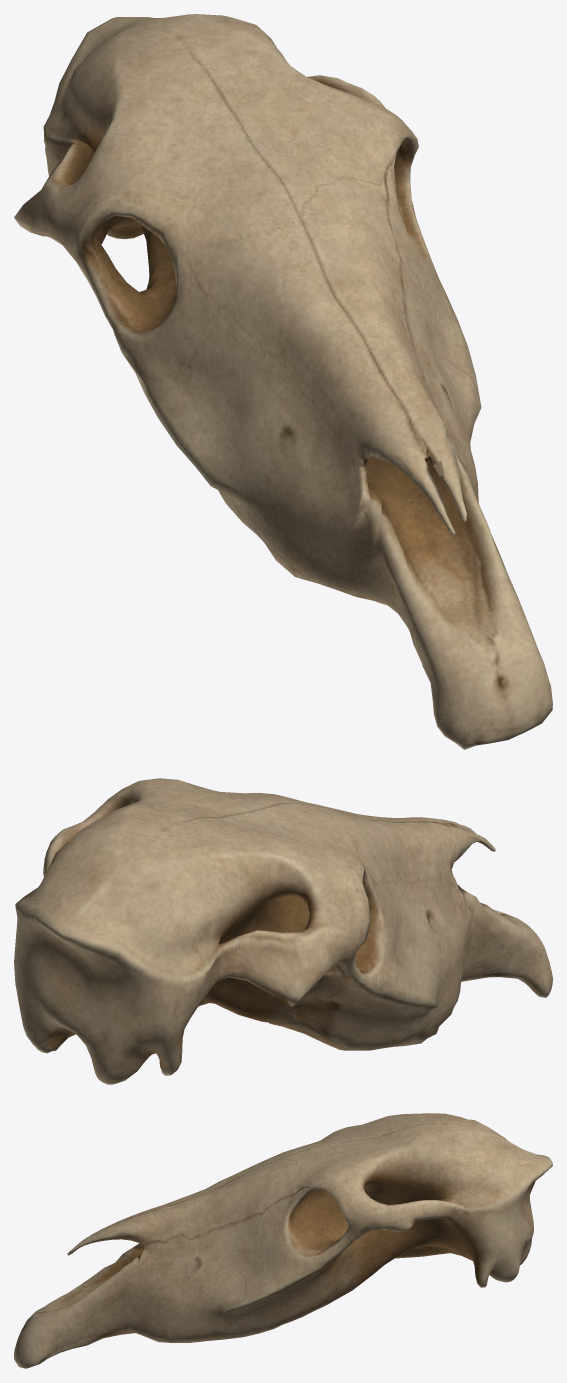
Rendered from Cranium.glb.
The picture shows the model from 3 angles, top to bottom: view 1: azimuth 30°, elevation 25°; view 2: azimuth 150°, elevation 25°; view 3: azimuth 270°, elevation 25°; orthographic projection. The views are drawn at different scales.
Visible parts, largest first — view 1: Cranium; view 2: Cranium; view 3: Cranium.
Boxes of the visible parts, x1,y1,x2,y2 form: Cranium: [14, 14, 552, 749]; Cranium: [14, 778, 552, 1084]; Cranium: [14, 1113, 552, 1368].
Size of the model in its own units: 0.2097 by 0.2612 by 0.5029.
Materials: 1 (1 with a texture image).
